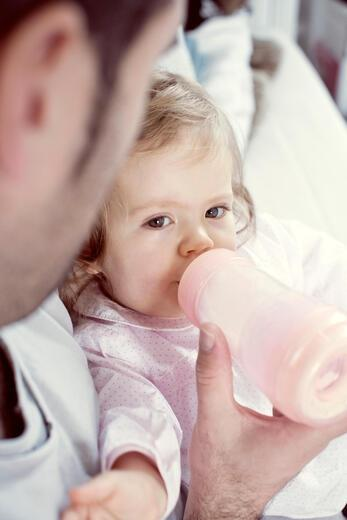Healthy: (96, 77, 297, 329)
